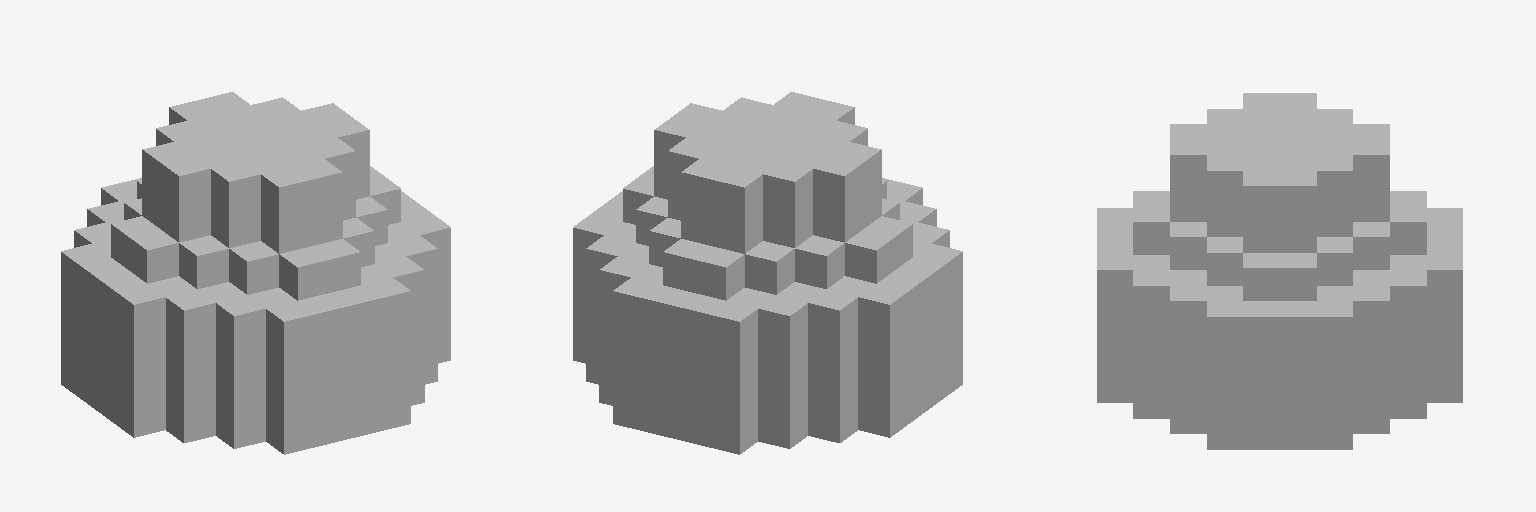
The model's file is button_up.obj.
3 views of the same model, side by side, from view 1: azimuth 30°, elevation 25°; view 2: azimuth 150°, elevation 25°; view 3: azimuth 270°, elevation 25° (orthographic).
Parts seen in each view (by area): view 1: object 1; view 2: object 1; view 3: object 1.
Part boxes in pixels (bbox=[...]): object 1: bbox=[61, 92, 450, 454]; object 1: bbox=[573, 92, 962, 454]; object 1: bbox=[1097, 93, 1462, 449].
Bounding box in the file's own units: 1 × 0.7 × 1.